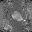people: (12, 11, 23, 22)
